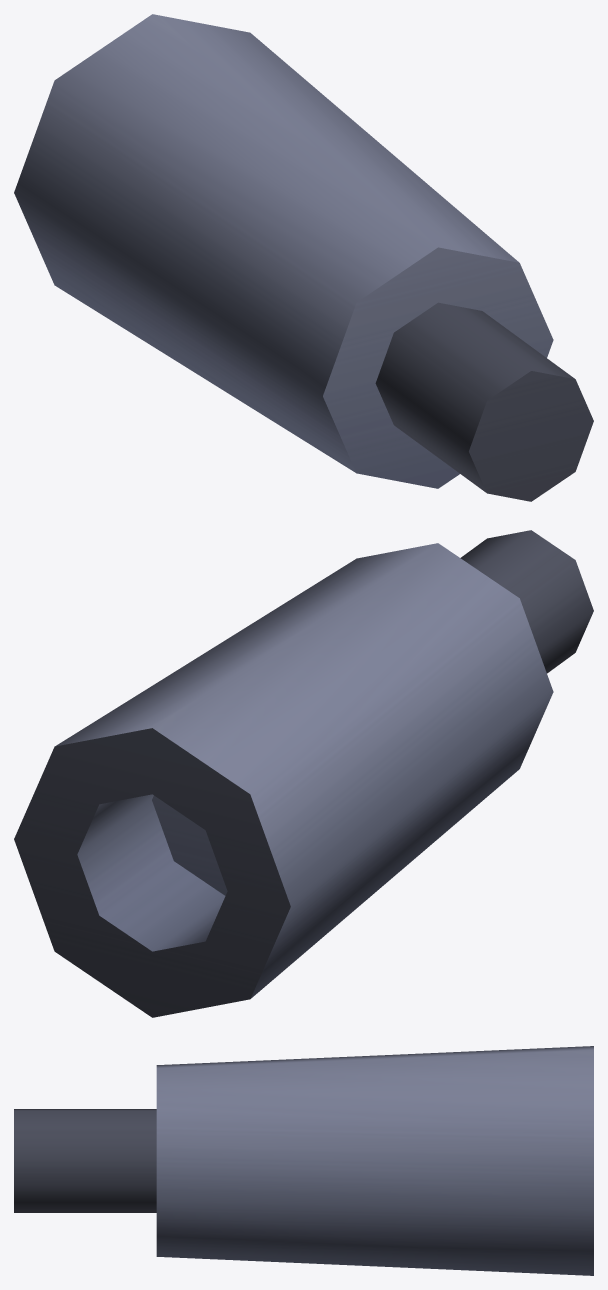
The model's file is silencer-small.glb.
3 views of the same model, one above another, from view 1: azimuth 30°, elevation 25°; view 2: azimuth 150°, elevation 25°; view 3: azimuth 270°, elevation 25° (orthographic). The views are drawn at different scales.
Visible parts, largest first — view 1: silencer-small; view 2: silencer-small; view 3: silencer-small.
Boxes of the visible parts, box(x1,y1,x2,y2) form: silencer-small: box(14, 14, 593, 501); silencer-small: box(14, 530, 593, 1017); silencer-small: box(14, 1046, 593, 1275).
Bounding box in the file's own units: 0.103 × 0.103 × 0.244.
1 material, 1 textured.
